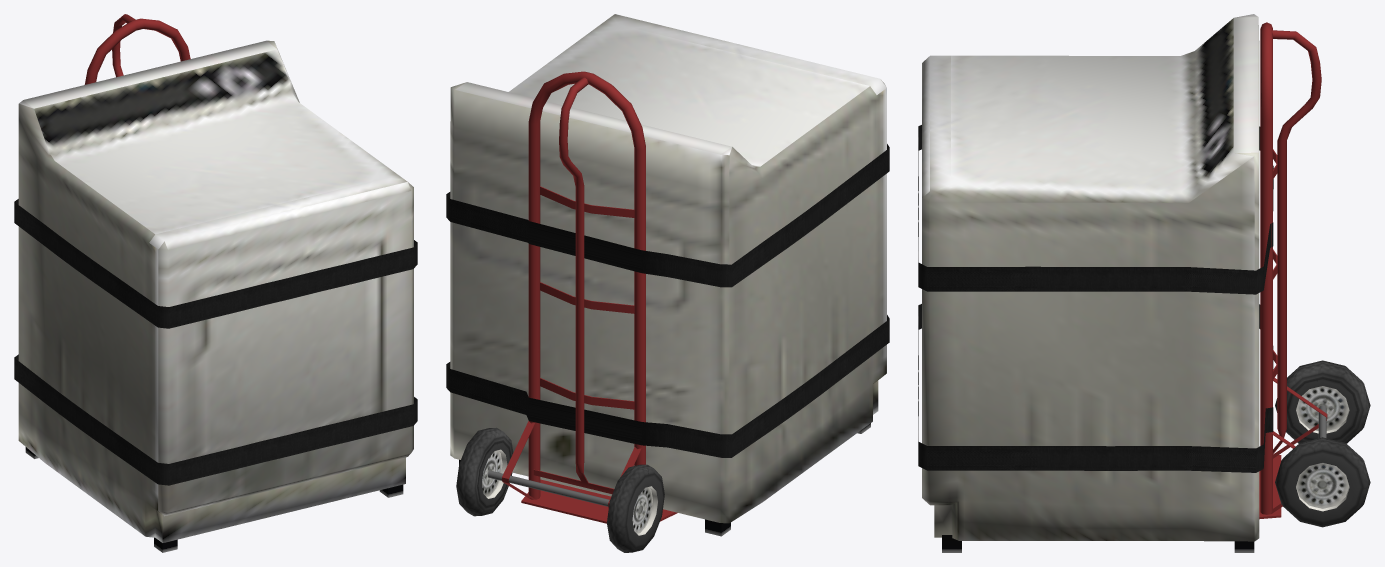
File: PA_Dryer.fbx
3 renders of one model, left to right at view 1: azimuth 30°, elevation 25°; view 2: azimuth 150°, elevation 25°; view 3: azimuth 270°, elevation 25°, orthographic. The views are drawn at different scales.
Parts seen in each view (by area): view 1: Dryer; view 2: Dryer; view 3: Dryer.
Boxes of the visible parts, left/top/right/bottom form: Dryer: left=14, top=14, right=417, bottom=552; Dryer: left=446, top=14, right=889, bottom=552; Dryer: left=918, top=14, right=1370, bottom=552.
Size of the model in its own units: 0.5451 by 0.7922 by 0.7058.
